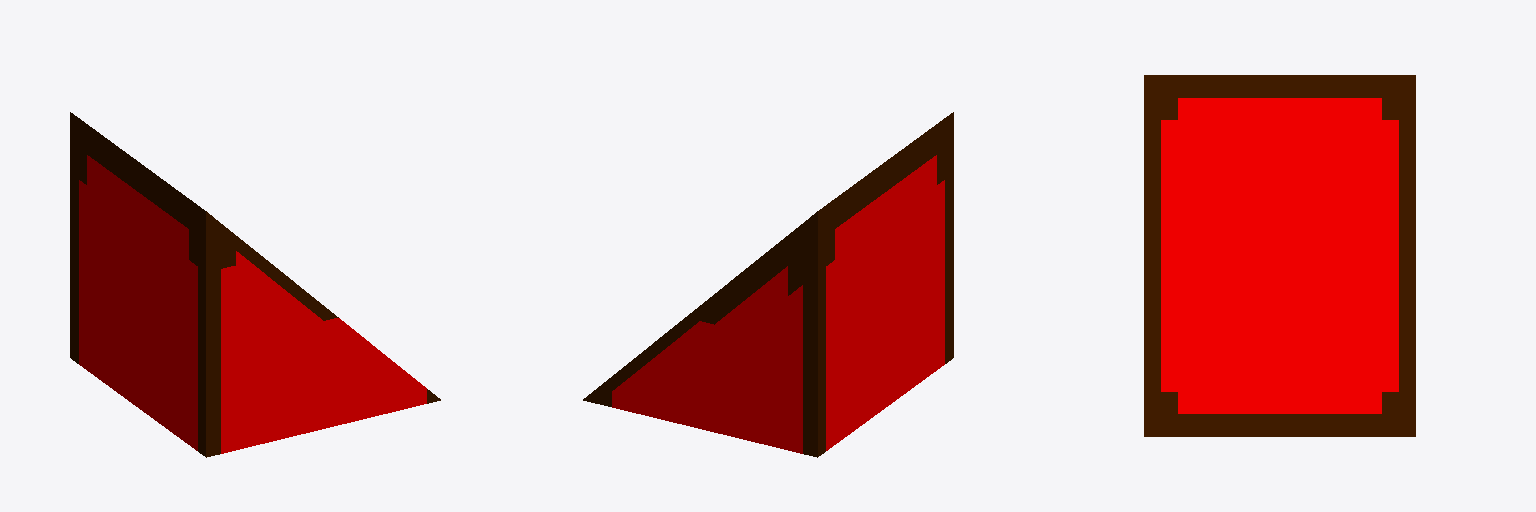
The picture shows the model from 3 angles: view 1: azimuth 30°, elevation 25°; view 2: azimuth 150°, elevation 25°; view 3: azimuth 270°, elevation 25°; orthographic projection.
Parts seen in each view (by area): view 1: 4_red; view 2: 4_red; view 3: 4_red.
Part boxes in pixels (left/top/right/bottom): 4_red: left=70, top=112, right=440, bottom=457; 4_red: left=583, top=112, right=953, bottom=457; 4_red: left=1144, top=75, right=1415, bottom=436.
Size of the model in its own units: 1 by 1 by 1.
1 materials, 1 textured.